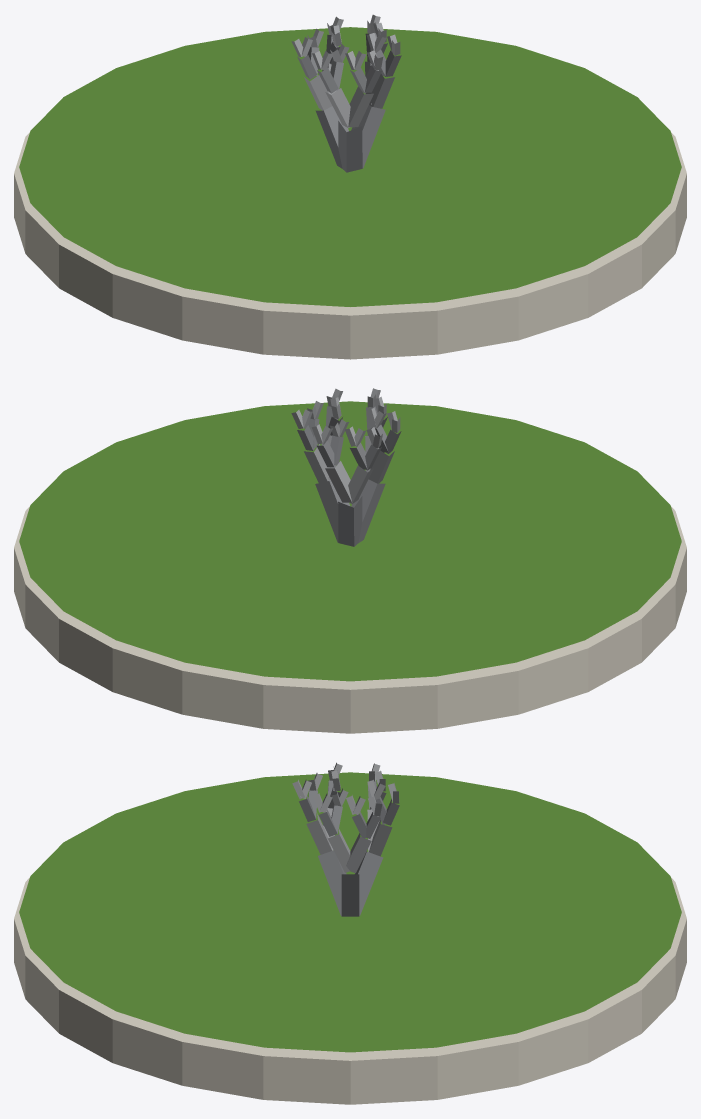
File: rb_coral.glb
3 views of the same model, one above another, from view 1: azimuth 30°, elevation 25°; view 2: azimuth 150°, elevation 25°; view 3: azimuth 270°, elevation 25° (orthographic).
Parts seen in each view (by area): view 1: rb_coral_lod0; view 2: rb_coral_lod0; view 3: rb_coral_lod0.
Part boxes in pixels (left/top/right/bottom): rb_coral_lod0: left=14, top=14, right=686, bottom=359; rb_coral_lod0: left=14, top=388, right=686, bottom=733; rb_coral_lod0: left=14, top=762, right=686, bottom=1104.
Size of what is drawn, in the model's own units: 26.4 by 7.96 by 26.4.
